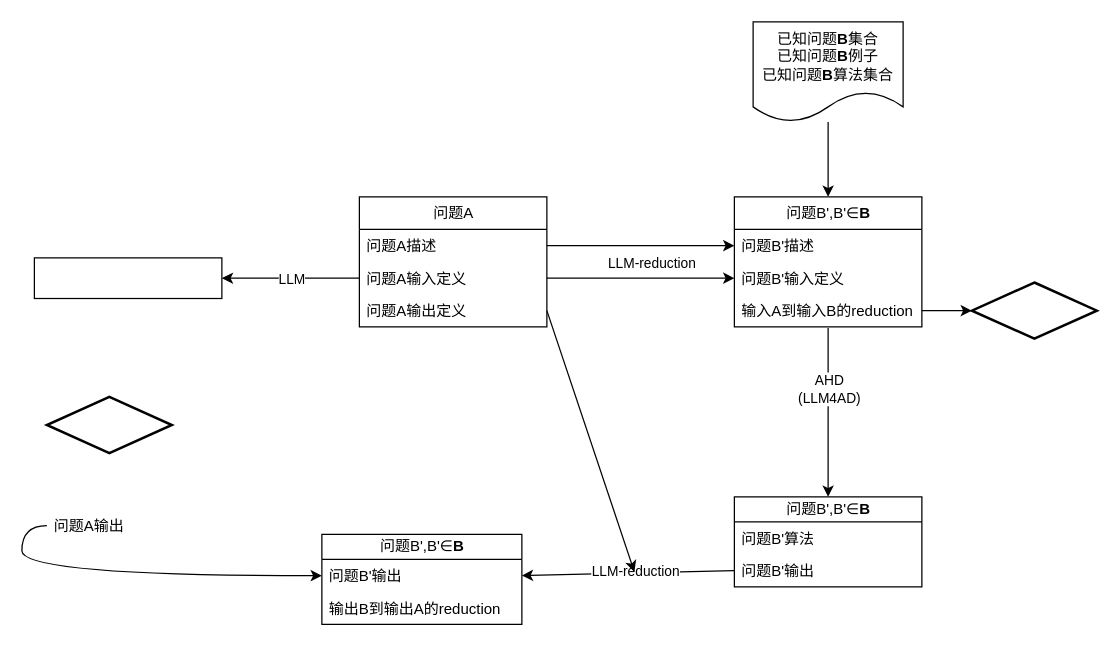
This 1120x650 diagram has some shape labels left out. The box of each missing label's shape, as (x1, y1, x2, y2) in pixels:
SMT验证？: (970, 281, 1098, 339)
检查: (45, 395, 172, 454)
问题A的输入生成（对应输出并不知道）: (33, 257, 222, 298)
